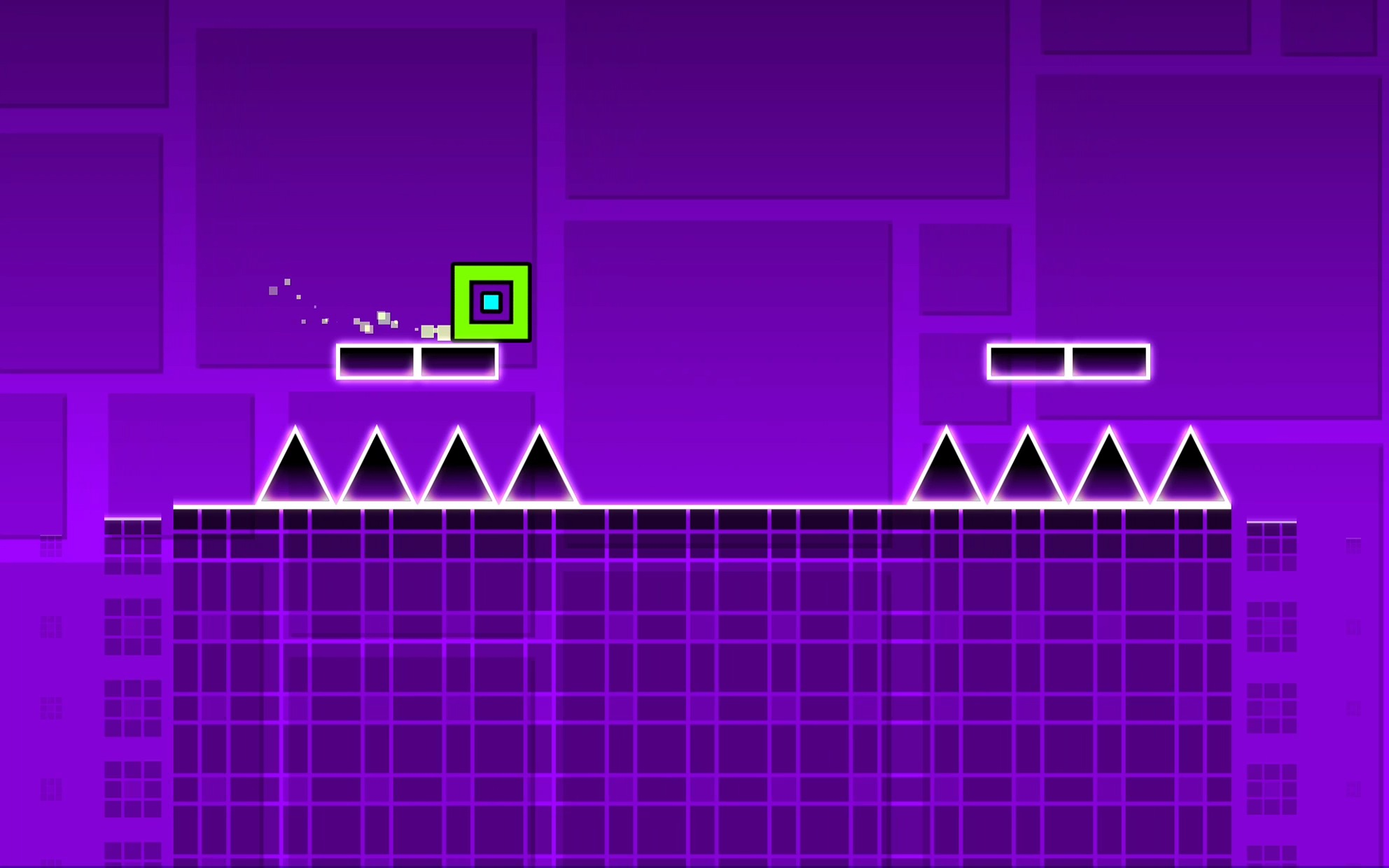Block2: (92, 504, 1298, 868)
Block3: (989, 345, 1075, 389), (1069, 344, 1151, 384), (332, 344, 420, 379), (423, 342, 500, 382)
Player: (451, 262, 531, 338)
Spike: (503, 428, 577, 503), (1154, 427, 1227, 503), (421, 426, 494, 501), (909, 428, 982, 502), (340, 426, 413, 500), (1073, 426, 1145, 501), (259, 428, 330, 503), (993, 426, 1062, 500)
